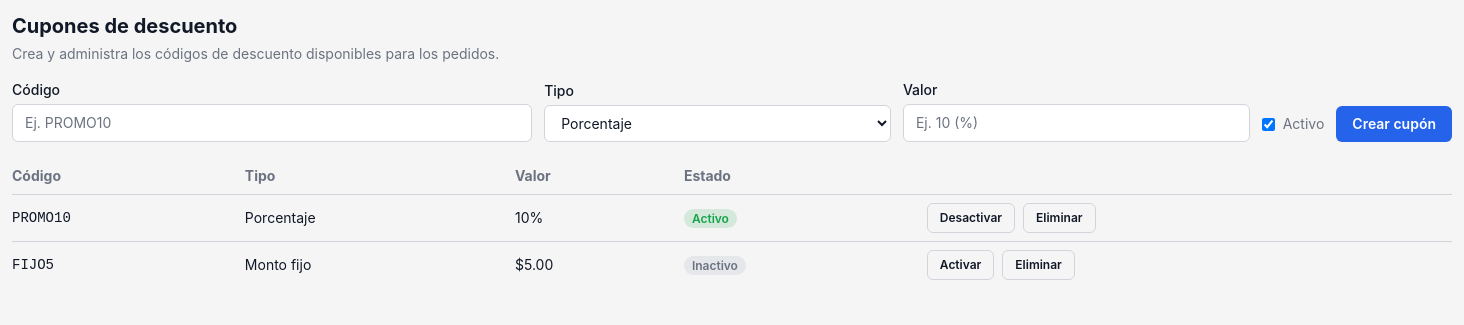
Scenario: CouponManager › crea un cupón con los datos del formulario
Type "nuevo10" into the field labelled "Código" at (272, 123), box [12,104,532,142]
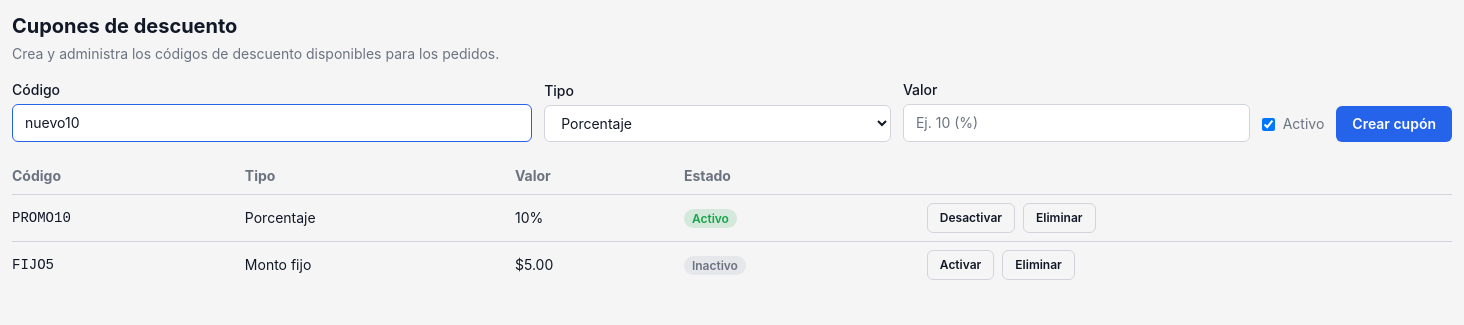
Select "Porcentaje" in the dropdown labelled "Tipo" at (718, 124), box [544,105,891,142]
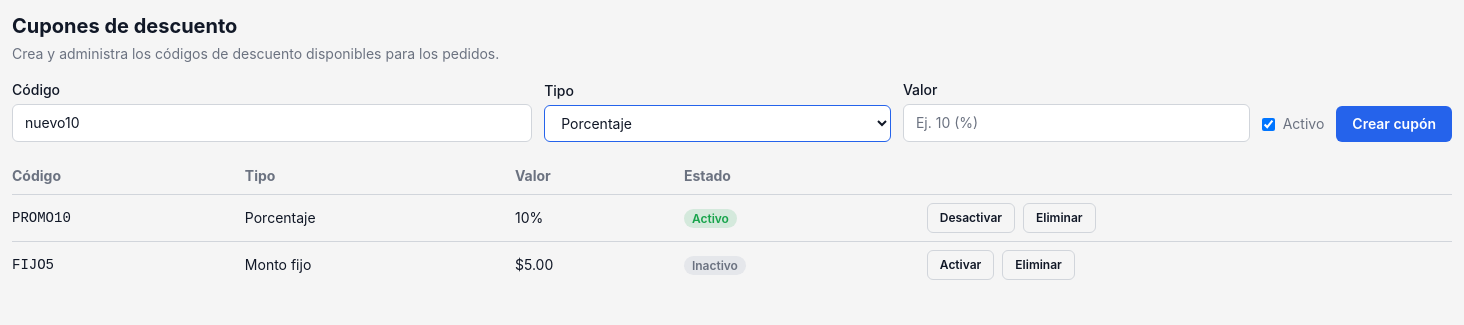
Type "20" into the number field labelled "Valor" at (1076, 123), box [903,104,1250,142]
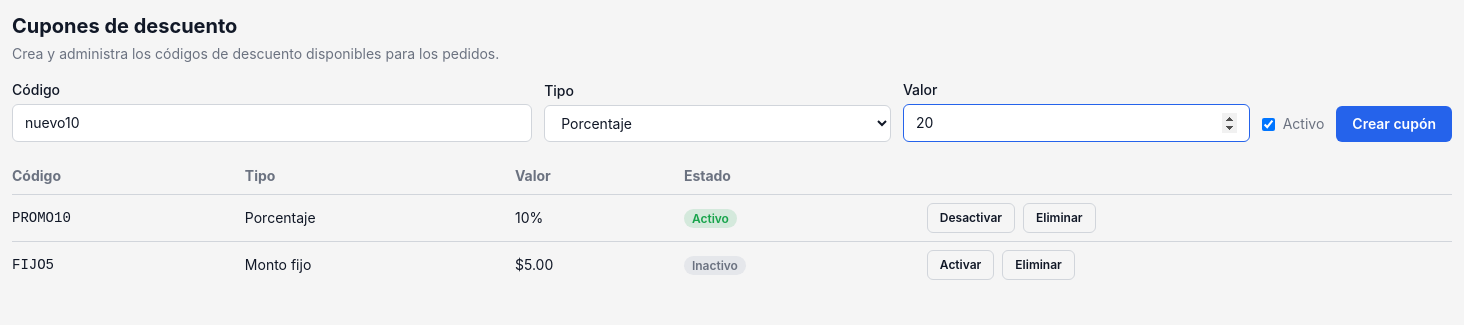
Click the button "Crear cupón" at (1394, 124), box [1336,106,1452,142]
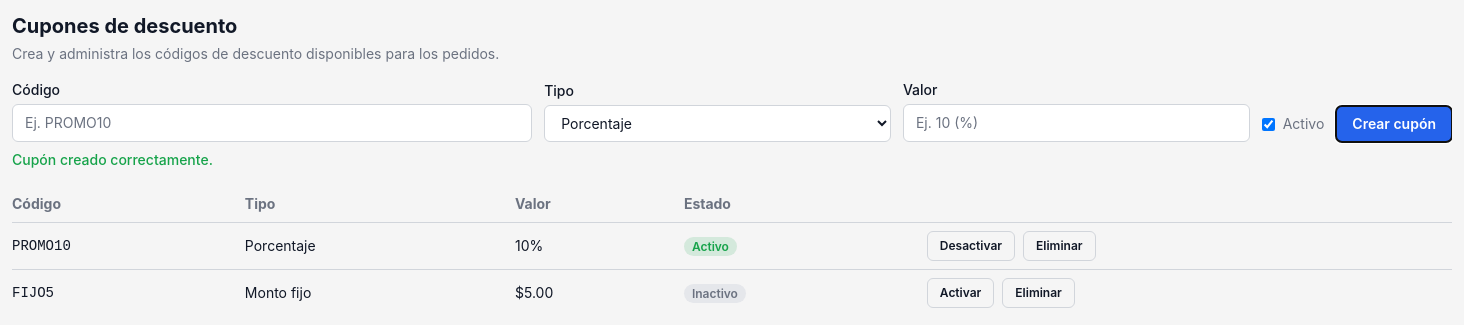
Result: the text "Cupón creado correctamente." is shown at [12,151,213,168]
